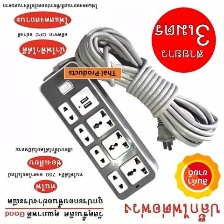three_eye_plug: (32, 58, 162, 205)
